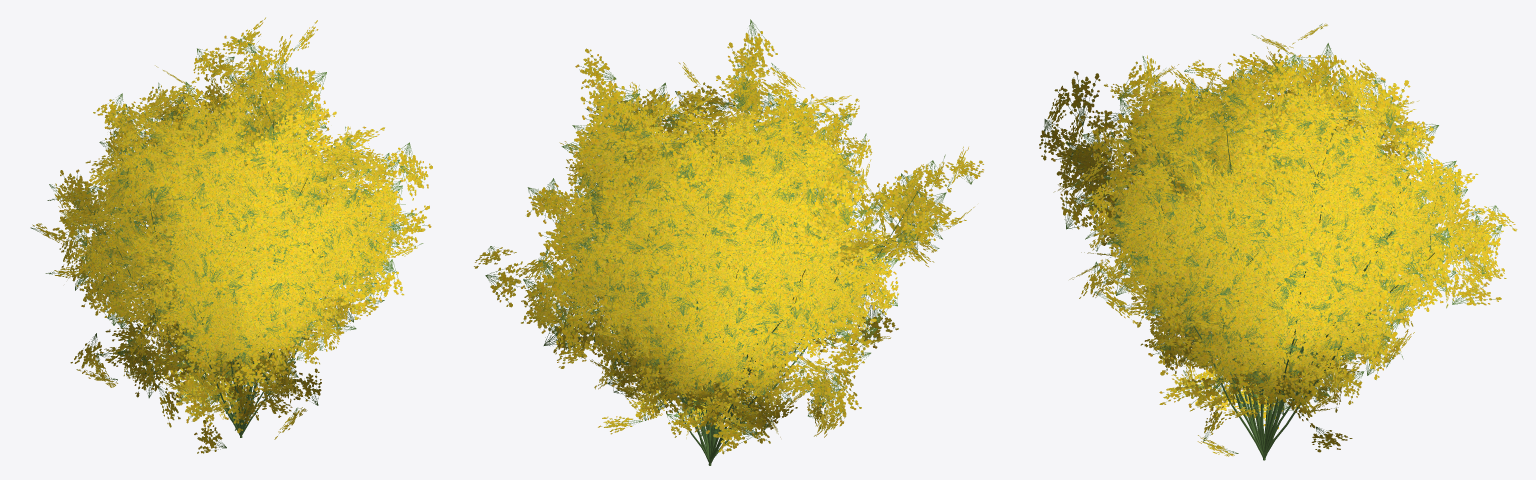
Rendered from BR3_Broom_BigInFlower_3m.glb.
3 renders of one model, left to right at view 1: azimuth 30°, elevation 25°; view 2: azimuth 150°, elevation 25°; view 3: azimuth 270°, elevation 25°, orthographic. The views are drawn at different scales.
Parts seen in each view (by area): view 1: BR3_leaves, BR3_wood; view 2: BR3_leaves, BR3_wood; view 3: BR3_leaves, BR3_wood.
Part boxes in pixels (<box>): BR3_leaves: <box>30,17,432,453</box>; BR3_wood: <box>88,66,371,437</box>; BR3_leaves: <box>474,19,983,454</box>; BR3_wood: <box>572,100,921,465</box>; BR3_leaves: <box>1039,23,1517,456</box>; BR3_wood: <box>1077,103,1443,460</box>.
Size of the model in its own units: 2.89 by 3 by 3.16.
2 materials, 2 textured.
